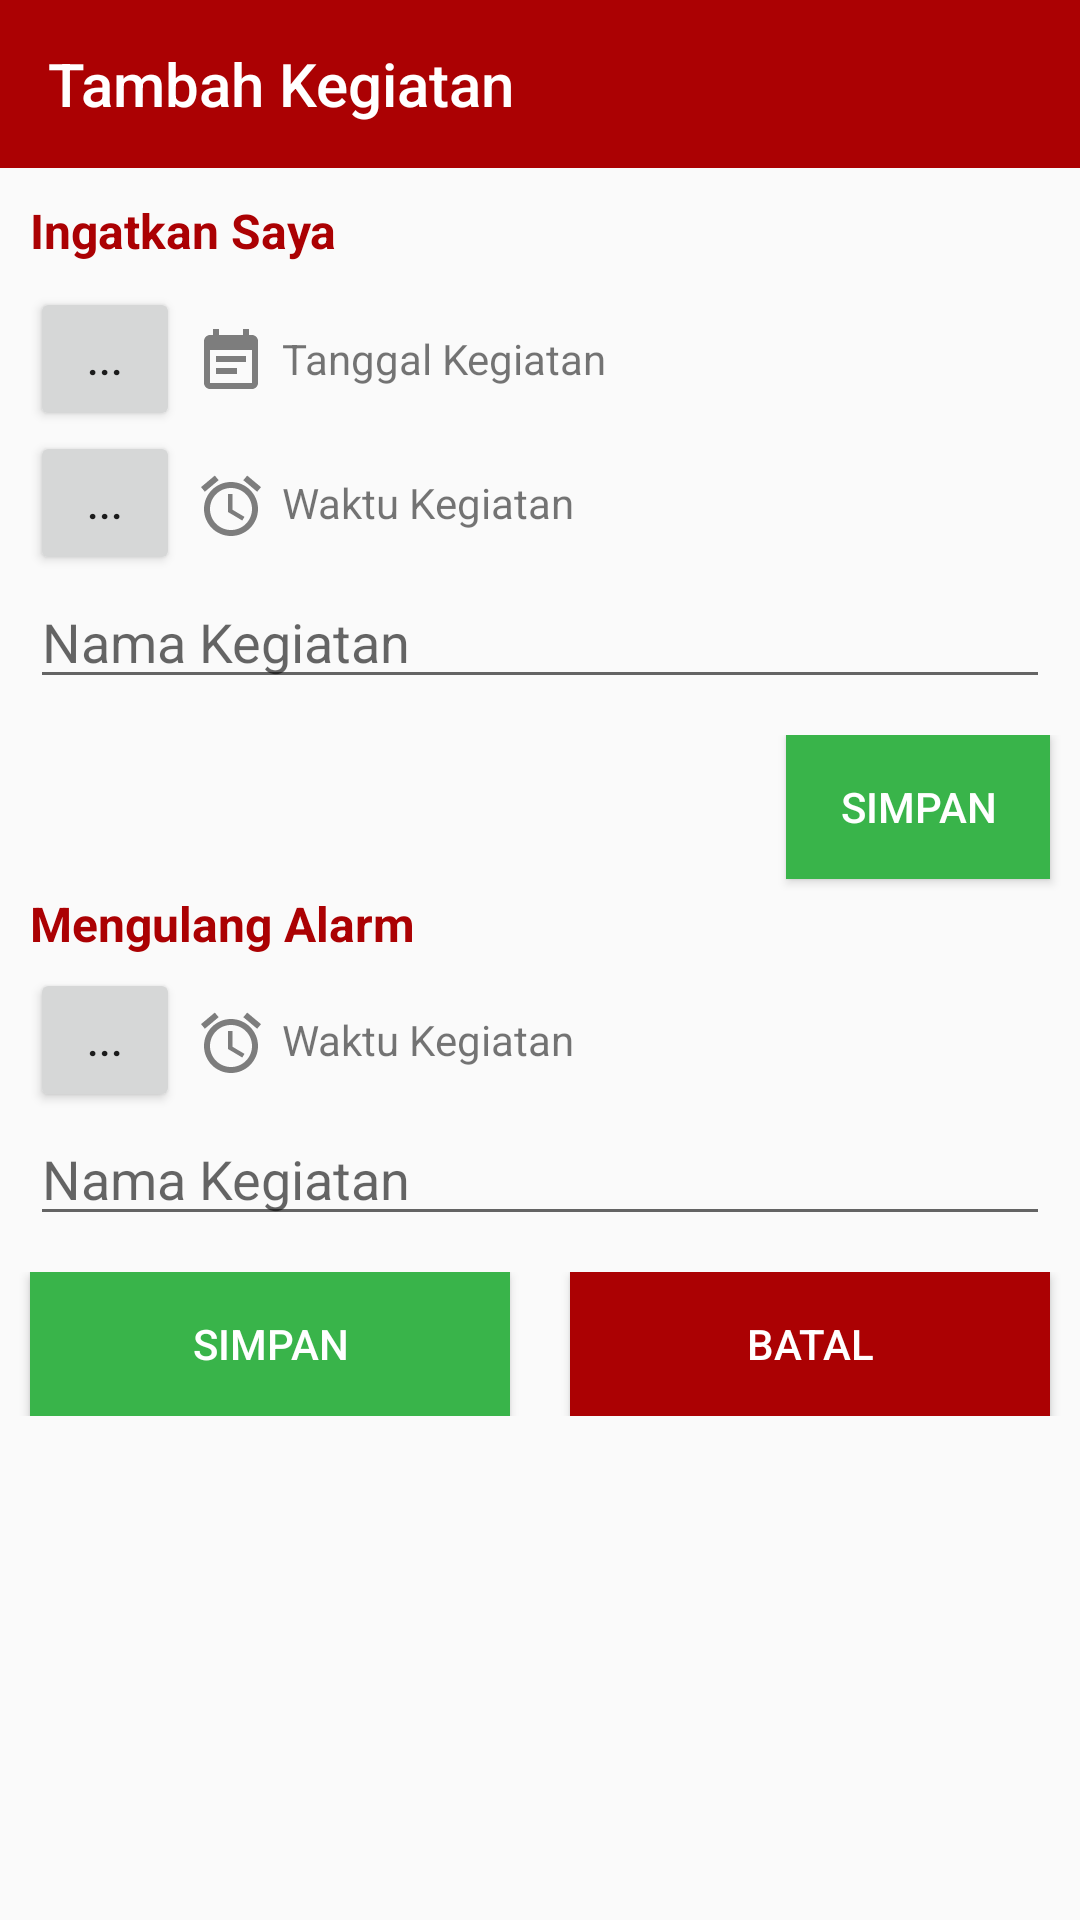

Icons on this 1080 x 1920 Android screen, each with the point to tap as point (x, y):
access alarm: point (231, 506), point (231, 1043)
event note: point (231, 359)
